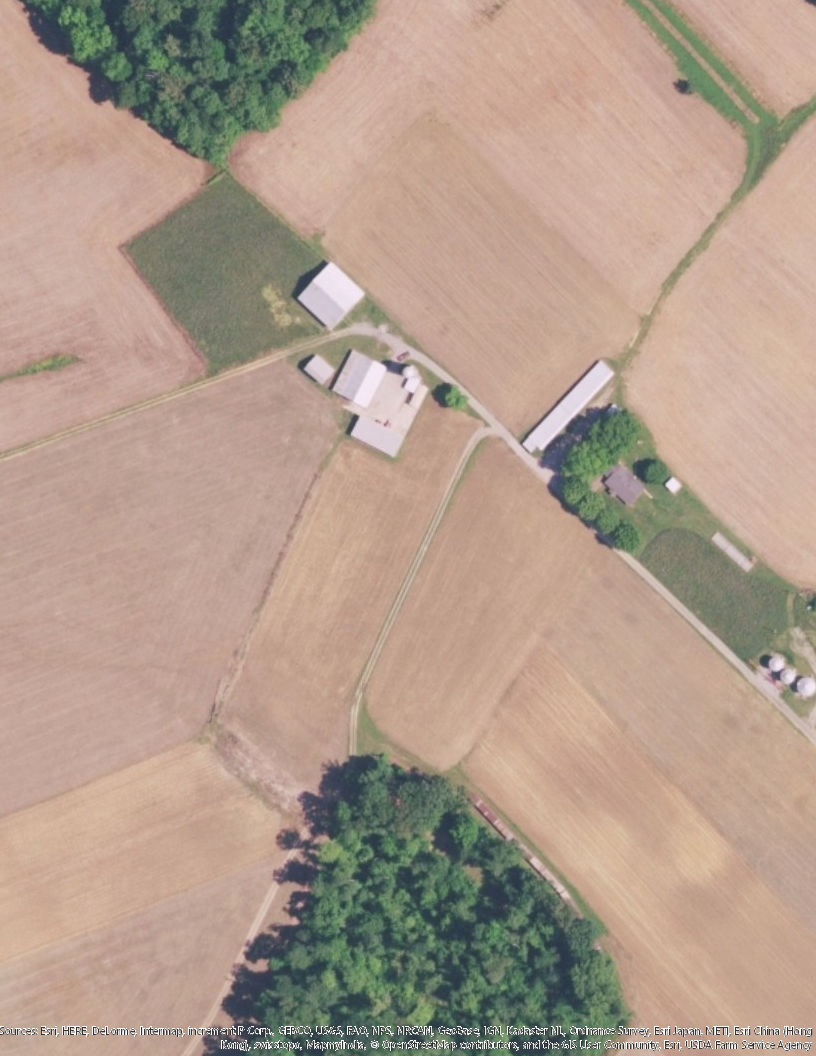cafo: (329, 347, 431, 464), (290, 257, 369, 326)
